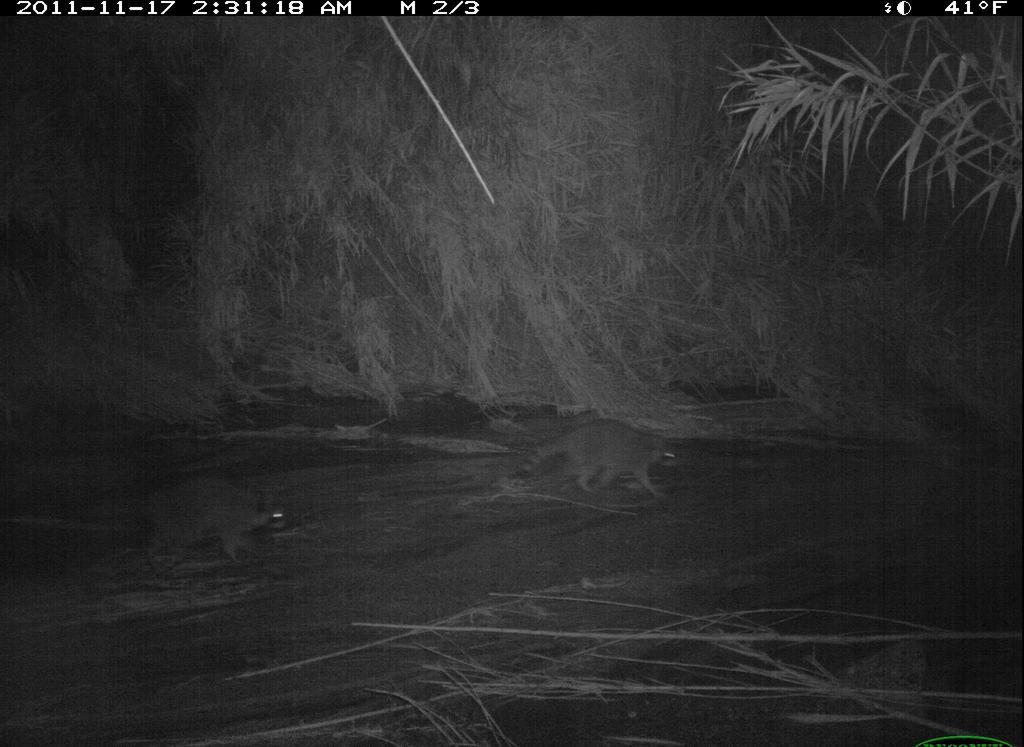raccoon: (109, 470, 310, 574), (511, 414, 685, 511)
